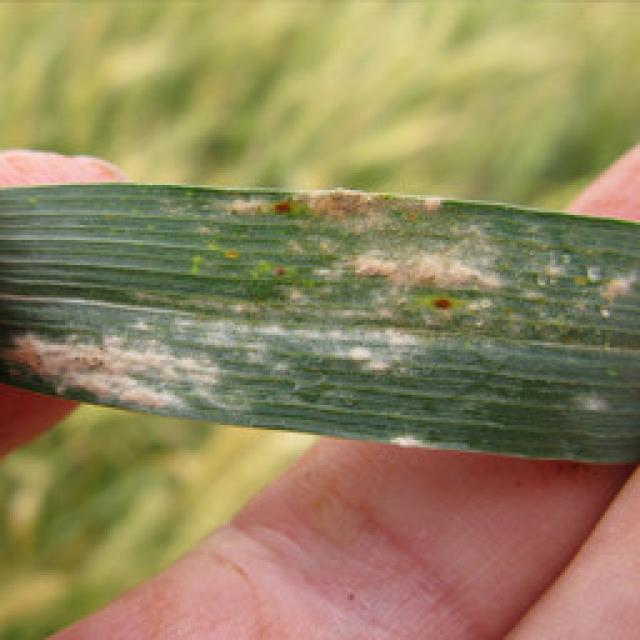wheat-powdery-mildew: (0, 182, 640, 465)
